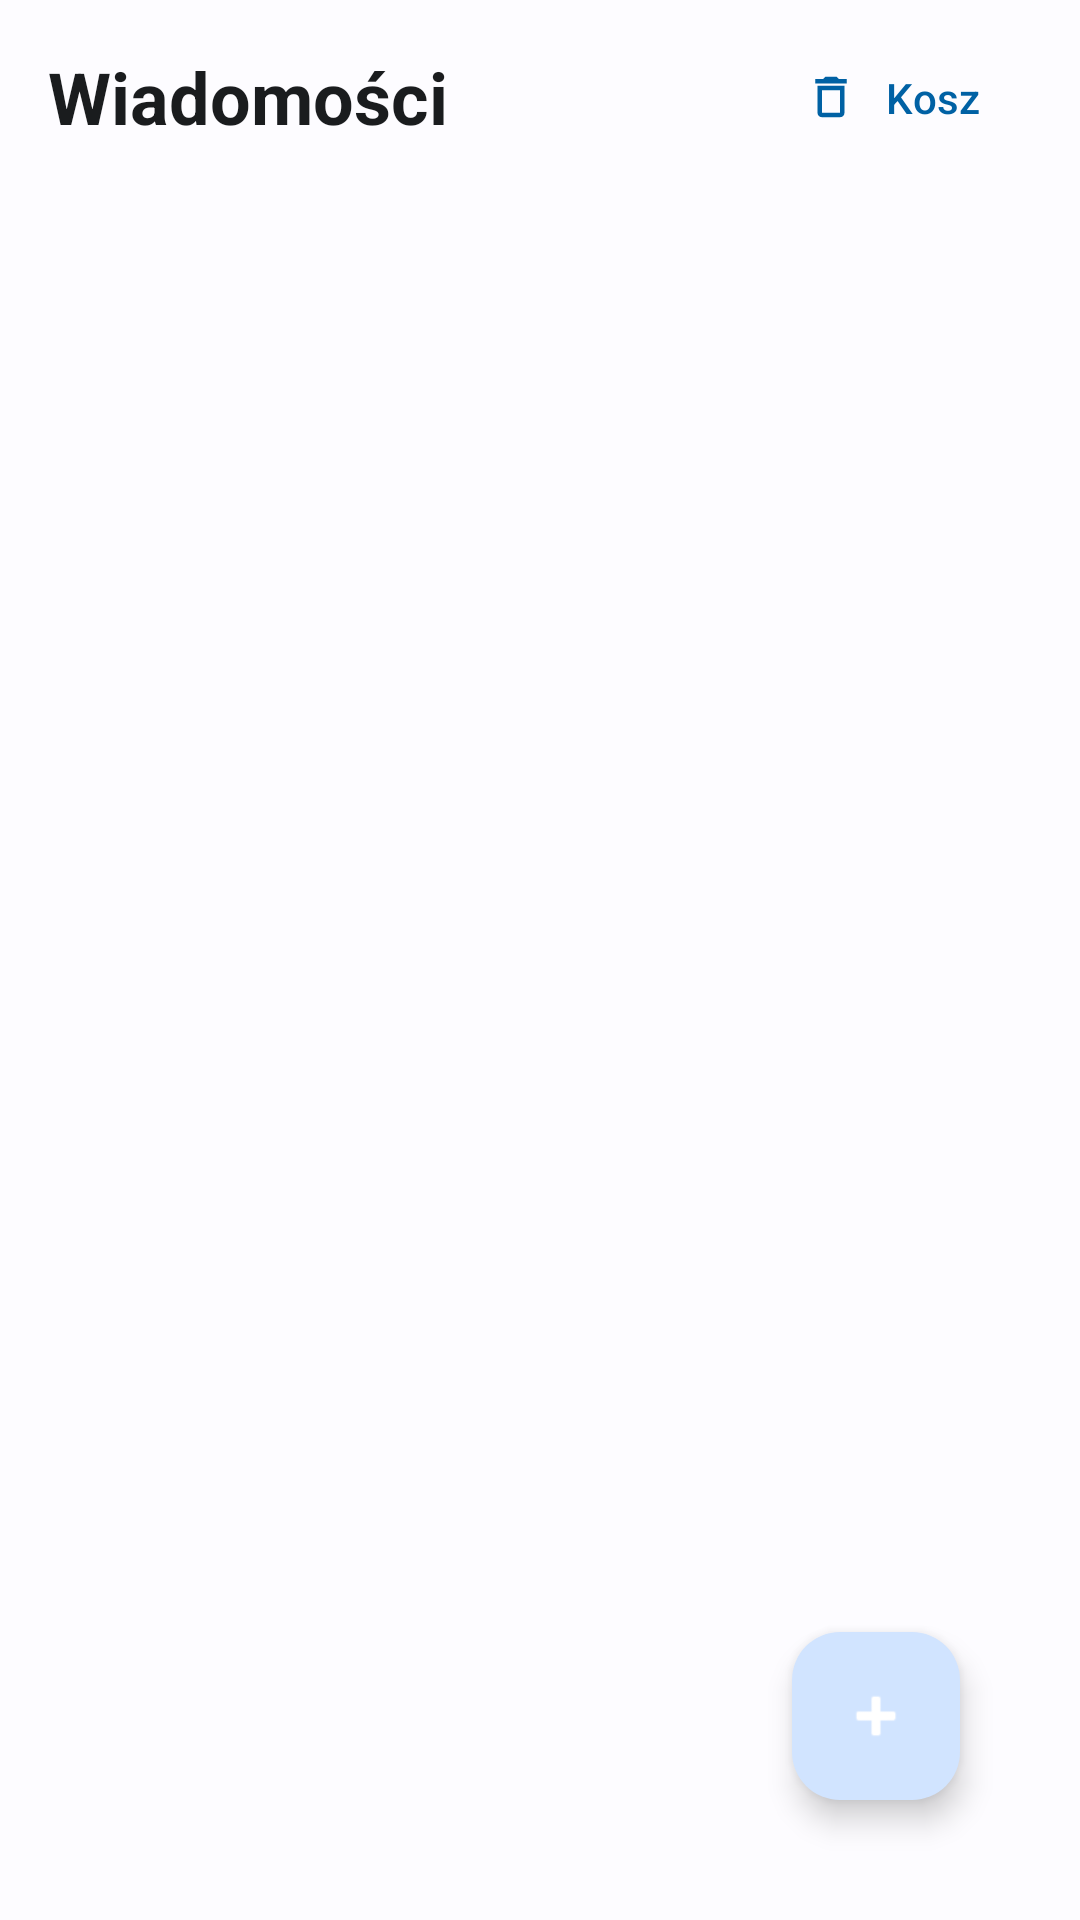

Point at icon controls on the screen. Image size 1080 × 1920, points as (x,y).
Nowa wiadomość: (876,1716)
